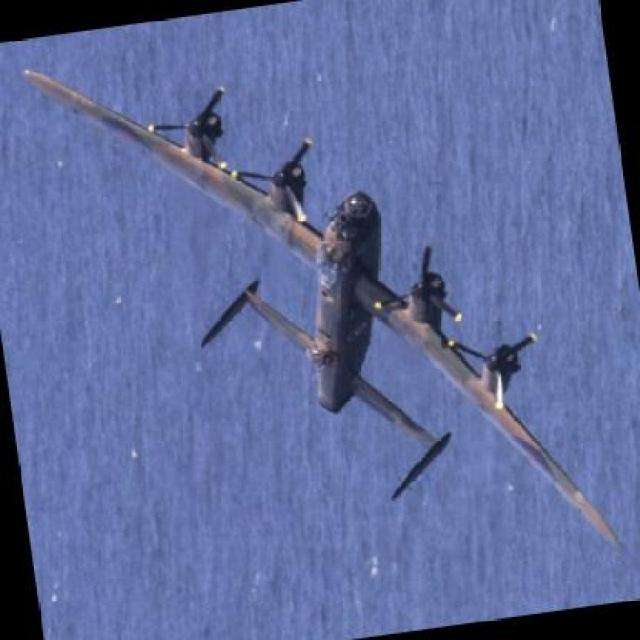iha: (25, 63, 622, 552)
